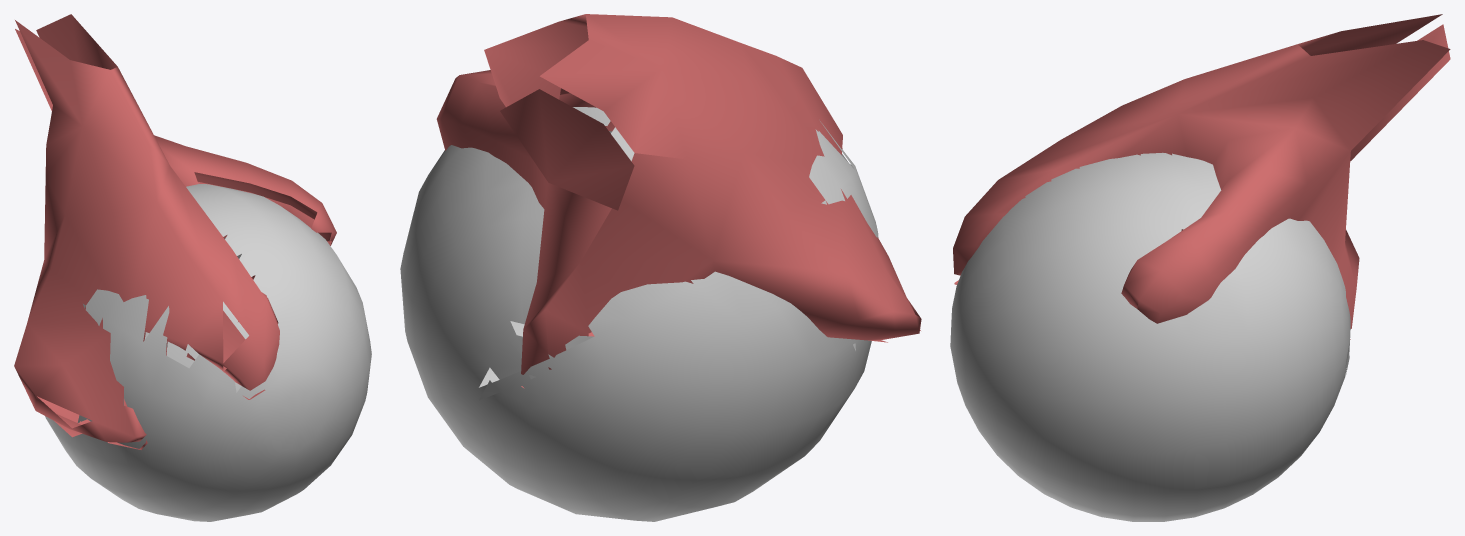
File: foco_pez.obj
3 renders of one model, left to right at view 1: azimuth 30°, elevation 25°; view 2: azimuth 150°, elevation 25°; view 3: azimuth 270°, elevation 25°, orthographic. The views are drawn at different scales.
Visible parts, largest first — view 1: pasted__polySurface2_pasted__lambert13_0.002_pasted__lambert10.0, pasted__polySurface2_pasted__lambert13_0.002_pasted__lambert13.0; view 2: pasted__polySurface2_pasted__lambert13_0.002_pasted__lambert13.0, pasted__polySurface2_pasted__lambert13_0.002_pasted__lambert10.0; view 3: pasted__polySurface2_pasted__lambert13_0.002_pasted__lambert13.0, pasted__polySurface2_pasted__lambert13_0.002_pasted__lambert10.0.
Part boxes in pixels (x1,y1,x2,y2): pasted__polySurface2_pasted__lambert13_0.002_pasted__lambert10.0: (14,14,336,449); pasted__polySurface2_pasted__lambert13_0.002_pasted__lambert13.0: (45,183,371,521); pasted__polySurface2_pasted__lambert13_0.002_pasted__lambert13.0: (400,107,878,521); pasted__polySurface2_pasted__lambert13_0.002_pasted__lambert10.0: (436,14,921,388); pasted__polySurface2_pasted__lambert13_0.002_pasted__lambert13.0: (950,152,1350,521); pasted__polySurface2_pasted__lambert13_0.002_pasted__lambert10.0: (953,14,1450,339).
Bounding box in the file's own units: 2.15 × 2.54 × 2.51.
